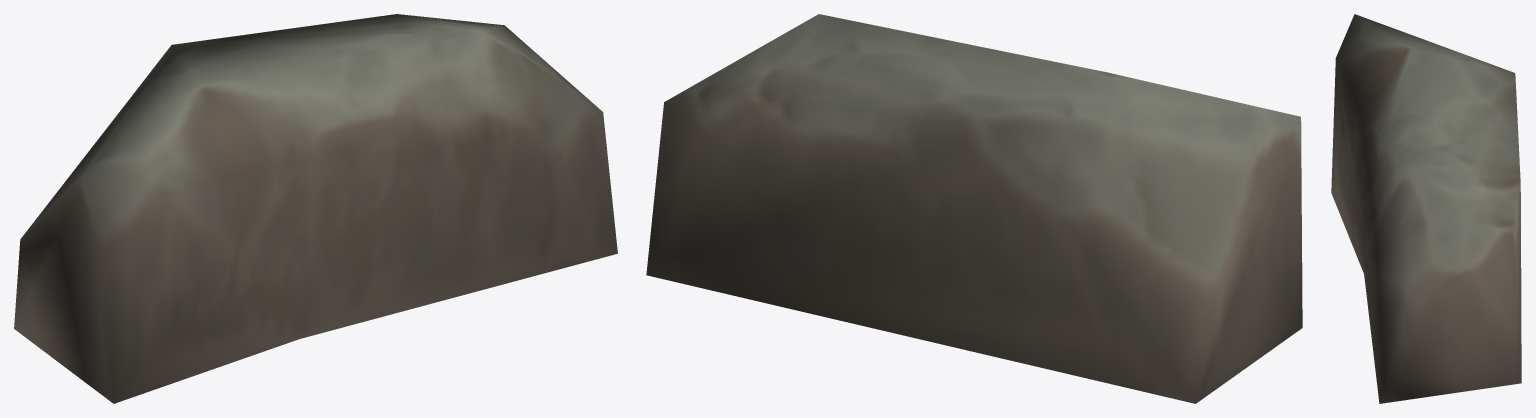
Rendered from SM_FW01_Floor_Debris_02.fbx.
The picture shows the model from 3 angles, left to right: view 1: azimuth 30°, elevation 25°; view 2: azimuth 150°, elevation 25°; view 3: azimuth 270°, elevation 25°; orthographic projection. The views are drawn at different scales.
Parts seen in each view (by area): view 1: SM_FW01_Floor_Debris_02; view 2: SM_FW01_Floor_Debris_02; view 3: SM_FW01_Floor_Debris_02.
Boxes of the visible parts, x1,y1,x2,y2 form: SM_FW01_Floor_Debris_02: (14,14,617,403); SM_FW01_Floor_Debris_02: (646,14,1302,403); SM_FW01_Floor_Debris_02: (1331,14,1521,403).
Size of the model in its own units: 0.4636 by 0.1995 by 0.1723.
